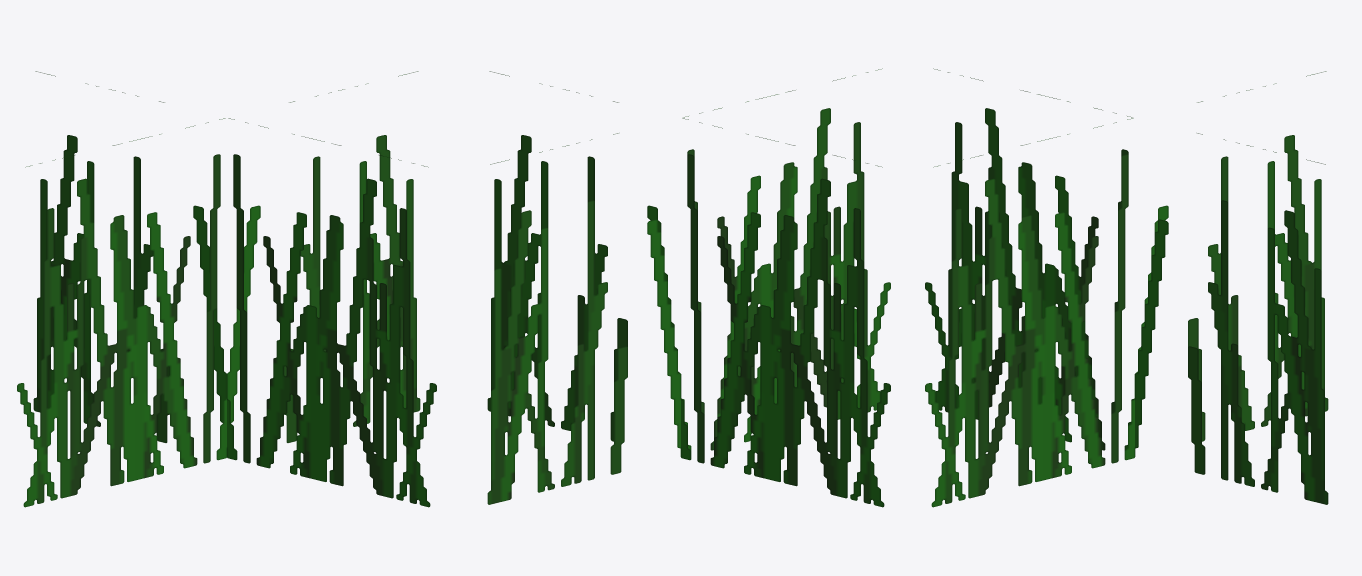
File: WK_VEG_GrassTuft.glb
3 views of the same model, side by side, from view 1: azimuth 30°, elevation 25°; view 2: azimuth 150°, elevation 25°; view 3: azimuth 270°, elevation 25° (orthographic).
Visible parts, largest first — view 1: WK_VEG_GrassTuft_P01, WK_VEG_GrassTuft_P03; view 2: WK_VEG_GrassTuft_P01, WK_VEG_GrassTuft_P02; view 3: WK_VEG_GrassTuft_P03, WK_VEG_GrassTuft_P02.
Boxes of the visible parts, bbox=[...] form: WK_VEG_GrassTuft_P01: bbox=[17, 71, 420, 507]; WK_VEG_GrassTuft_P03: bbox=[33, 71, 436, 507]; WK_VEG_GrassTuft_P01: bbox=[487, 71, 890, 507]; WK_VEG_GrassTuft_P02: bbox=[487, 68, 890, 504]; WK_VEG_GrassTuft_P03: bbox=[925, 71, 1328, 507]; WK_VEG_GrassTuft_P02: bbox=[925, 68, 1328, 504].
Bounding box in the file's own units: 0.55 × 0.42 × 0.4763.
Materials: 1 (1 with a texture image).
